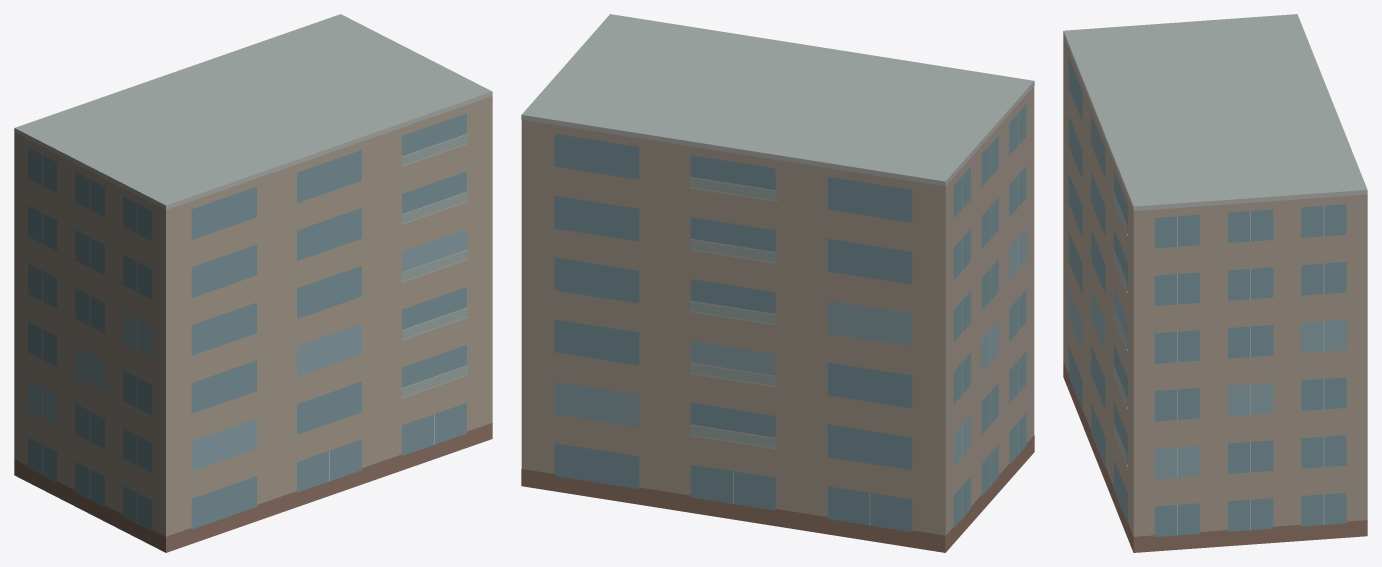
File: survey-upis-32746701.glb
The picture shows the model from 3 angles, left to right: view 1: azimuth 30°, elevation 25°; view 2: azimuth 150°, elevation 25°; view 3: azimuth 270°, elevation 25°; orthographic projection. The views are drawn at different scales.
Parts seen in each view (by area): view 1: survey-upis-32746701.tmp; view 2: survey-upis-32746701.tmp; view 3: survey-upis-32746701.tmp.
Part boxes in pixels (<box>): survey-upis-32746701.tmp: <box>14,14,492,552</box>; survey-upis-32746701.tmp: <box>521,14,1034,552</box>; survey-upis-32746701.tmp: <box>1063,14,1367,552</box>.
Bounding box in the file's own units: 22.08 × 18.5 × 14.74.
